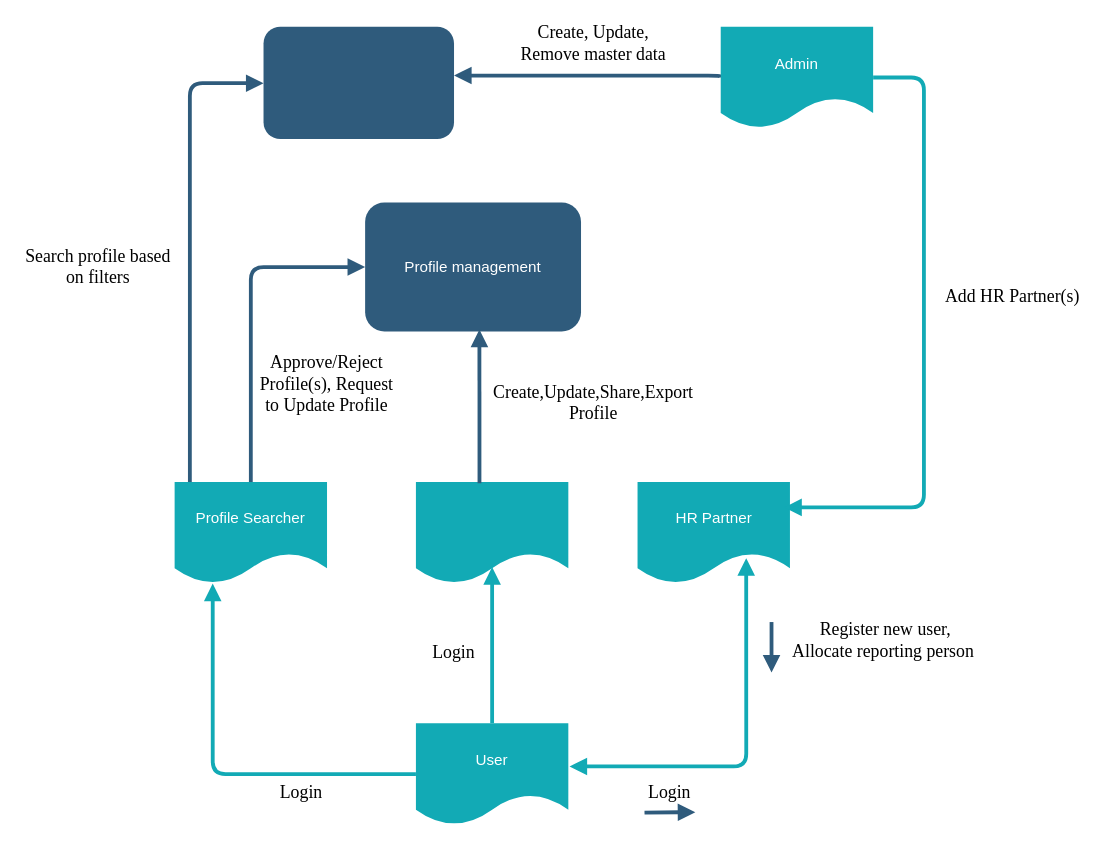
Image size: 1110x846. Some labels were removed from this diagram. The centre of each missing label's shape, as x and y in pixels:
"Database Management" belongs at point 358,82.
"Profile Creator" belongs at point 491,532.
